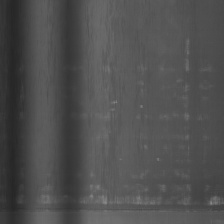welding_line: (3, 202, 224, 217)
